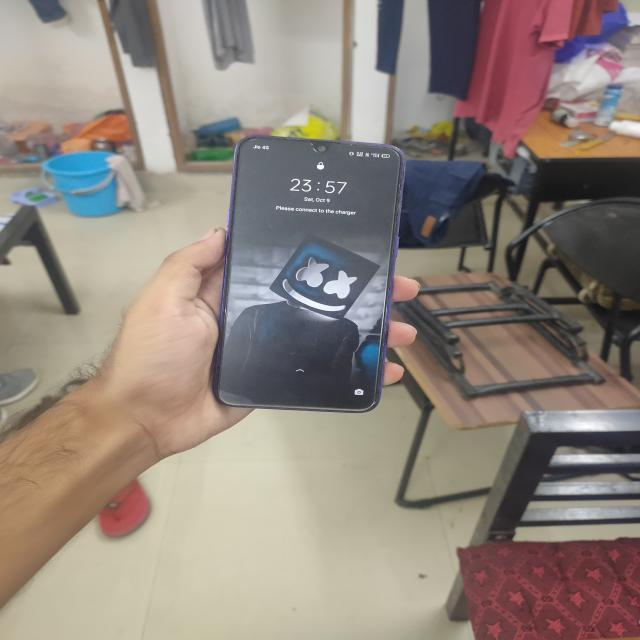Phone: (208, 132, 406, 415)
